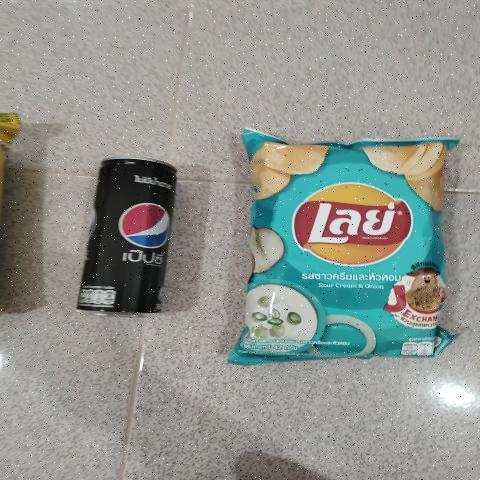lay_blue: (258, 149, 429, 340)
pepsi_black: (87, 156, 171, 318)
